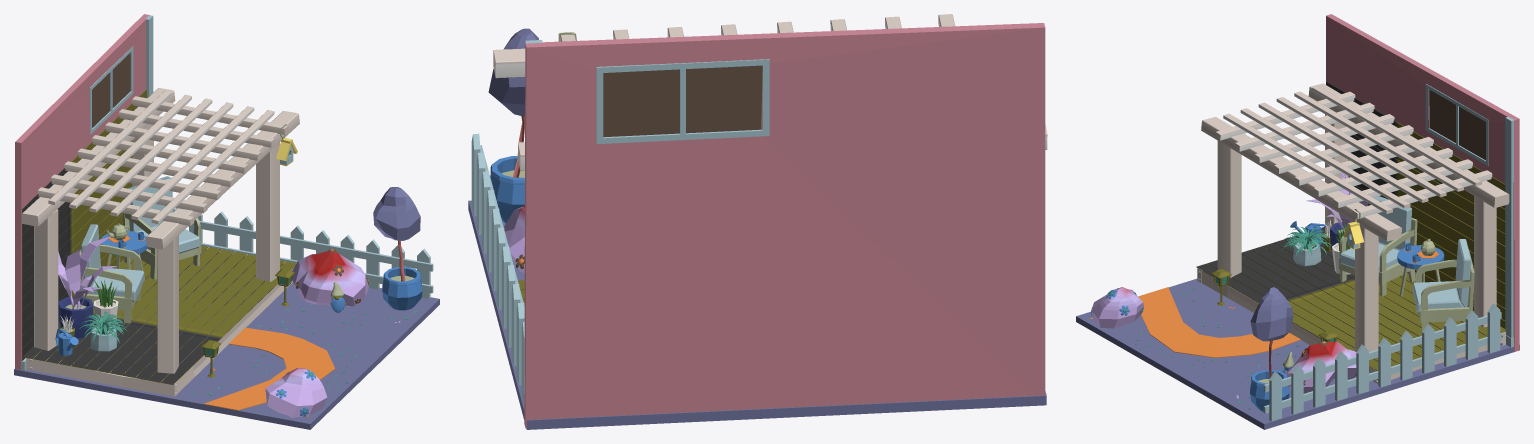
The model's file is Patio.fbx.
The picture shows the model from 3 angles, left to right: view 1: azimuth 30°, elevation 25°; view 2: azimuth 150°, elevation 25°; view 3: azimuth 270°, elevation 25°; orthographic projection. The views are drawn at different scales.
Visible parts, largest first — view 1: Patio_Gazeebo, Patio_Base, Patio_Bushes, Patio_Fence, Patio_Road, Patio_Tree, Patio_Chair2, Patio_Flower1, Patio_Chair, Patio_Flower2, Patio_Boards, Patio_Flower (+4 smaller); view 2: Patio_Base, Patio_Fence, Patio_Tree, Patio_Gazeebo, Patio_Bushes; view 3: Patio_Gazeebo, Patio_Base, Patio_Fence, Patio_Road, Patio_Chair, Patio_Bushes, Patio_Tree, Patio_Chair2, Patio_Boards, Patio_Flower2, Patio_Table, Patio_Flower1 (+2 smaller).
Part boxes in pixels (box(x1,y1,x2,y2)): Patio_Gazeebo: box(21, 88, 299, 396); Patio_Base: box(14, 14, 439, 429); Patio_Bushes: box(265, 249, 368, 417); Patio_Fence: box(173, 208, 433, 298); Patio_Road: box(204, 327, 335, 410); Patio_Tree: box(373, 187, 422, 310); Patio_Chair2: box(79, 224, 144, 325); Patio_Flower1: box(58, 236, 117, 338); Patio_Chair: box(122, 176, 201, 279); Patio_Flower2: box(79, 311, 127, 351); Patio_Boards: box(20, 15, 153, 370); Patio_Flower: box(93, 280, 118, 326); Patio_Base: box(468, 23, 1046, 429); Patio_Fence: box(471, 133, 524, 403); Patio_Tree: box(488, 28, 538, 223); Patio_Gazeebo: box(493, 14, 1047, 305); Patio_Bushes: box(504, 206, 524, 273); Patio_Gazeebo: box(1196, 81, 1509, 383); Patio_Base: box(1076, 14, 1519, 429); Patio_Fence: box(1263, 303, 1501, 421); Patio_Road: box(1138, 287, 1300, 357); Patio_Chair: box(1412, 239, 1474, 331); Patio_Bushes: box(1091, 287, 1356, 393); Patio_Tree: box(1250, 287, 1293, 411); Patio_Chair2: box(1339, 196, 1417, 296); Patio_Boards: box(1505, 116, 1514, 347); Patio_Flower2: box(1281, 227, 1331, 266); Patio_Table: box(1397, 245, 1444, 296); Patio_Flower1: box(1306, 163, 1368, 250).
Size of the model in its own units: 699 by 403 by 699.
